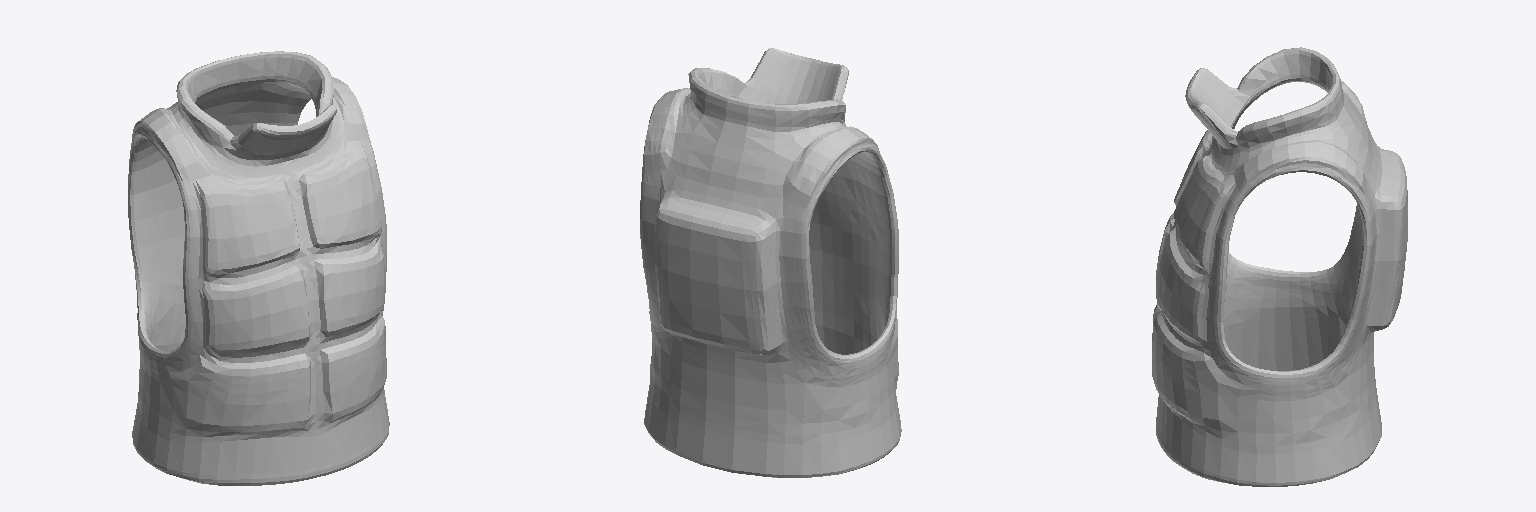
File: body armour.obj
3 renders of one model, left to right at view 1: azimuth 30°, elevation 25°; view 2: azimuth 150°, elevation 25°; view 3: azimuth 270°, elevation 25°, orthographic.
Visible parts, largest first — view 1: Retopo_DayzMesh.003_mesh.002; view 2: Retopo_DayzMesh.003_mesh.002; view 3: Retopo_DayzMesh.003_mesh.002.
Part boxes in pixels (left/top/right/bottom): Retopo_DayzMesh.003_mesh.002: left=128, top=51, right=389, bottom=485; Retopo_DayzMesh.003_mesh.002: left=640, top=48, right=901, bottom=477; Retopo_DayzMesh.003_mesh.002: left=1152, top=47, right=1407, bottom=486.
Bounding box in the file's own units: 0.4225 × 0.6268 × 0.4084.